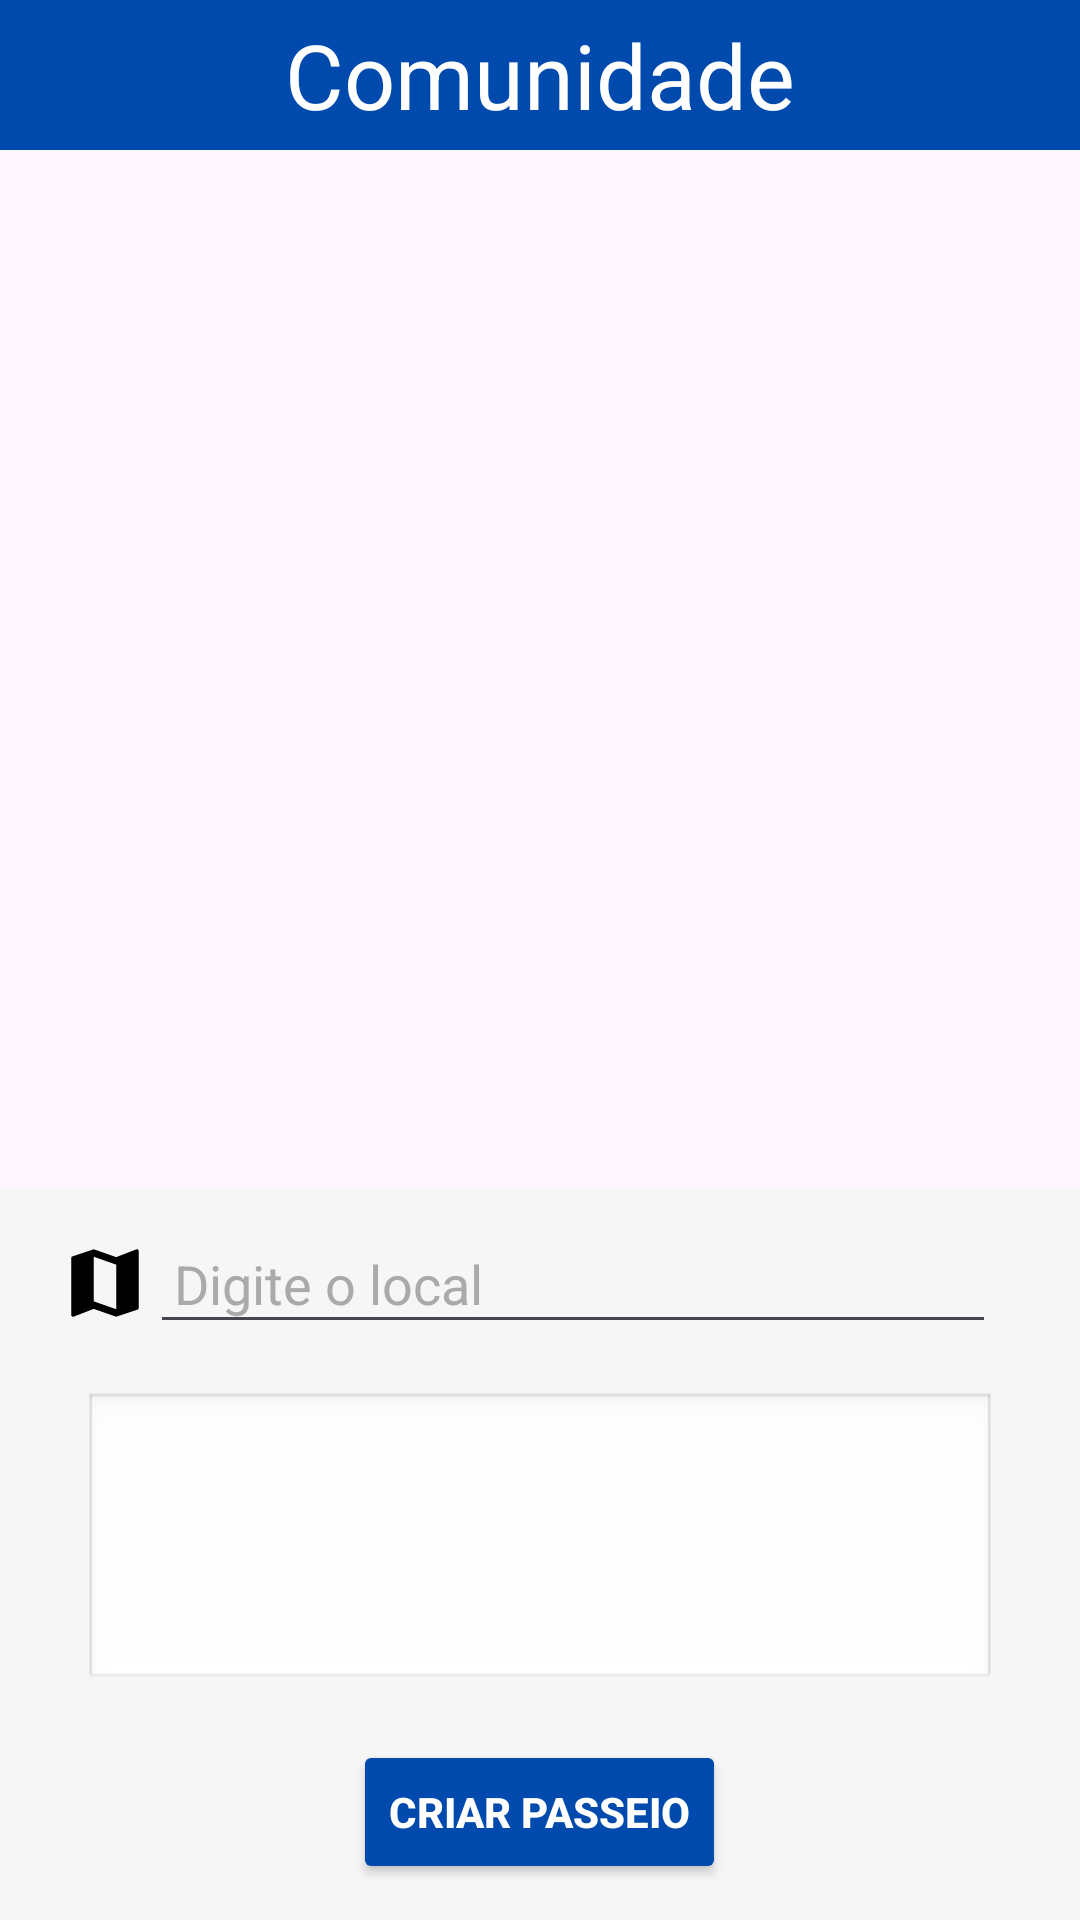

Screen size 1080*1920. Icon name, then its center in pixels as (x=x, y=y):
Abrir mapa: (x=105, y=1283)
